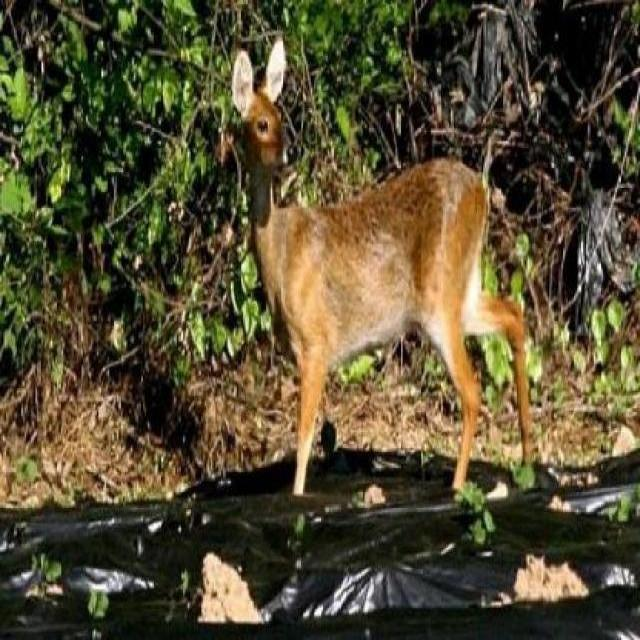deer: (223, 35, 539, 508)
